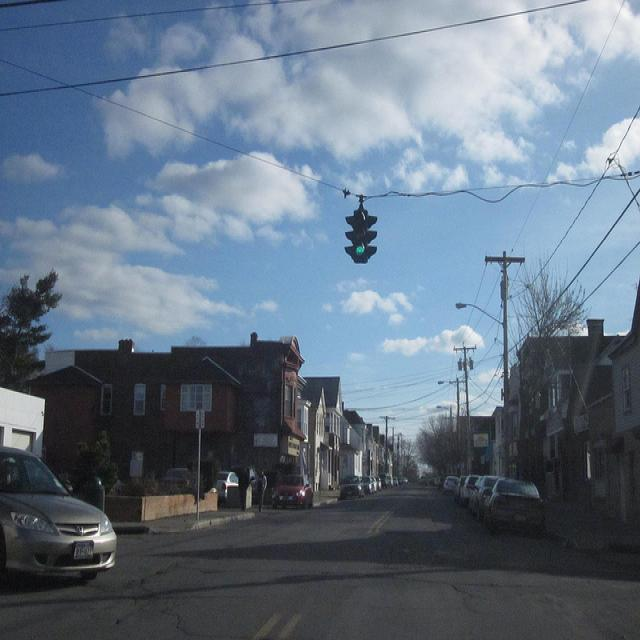Vehicle: (1, 447, 119, 591), (482, 477, 546, 537), (272, 474, 313, 510), (472, 476, 499, 520), (459, 474, 483, 508), (214, 471, 238, 500), (342, 476, 364, 497), (360, 480, 378, 499), (455, 476, 467, 499), (444, 477, 458, 493)
